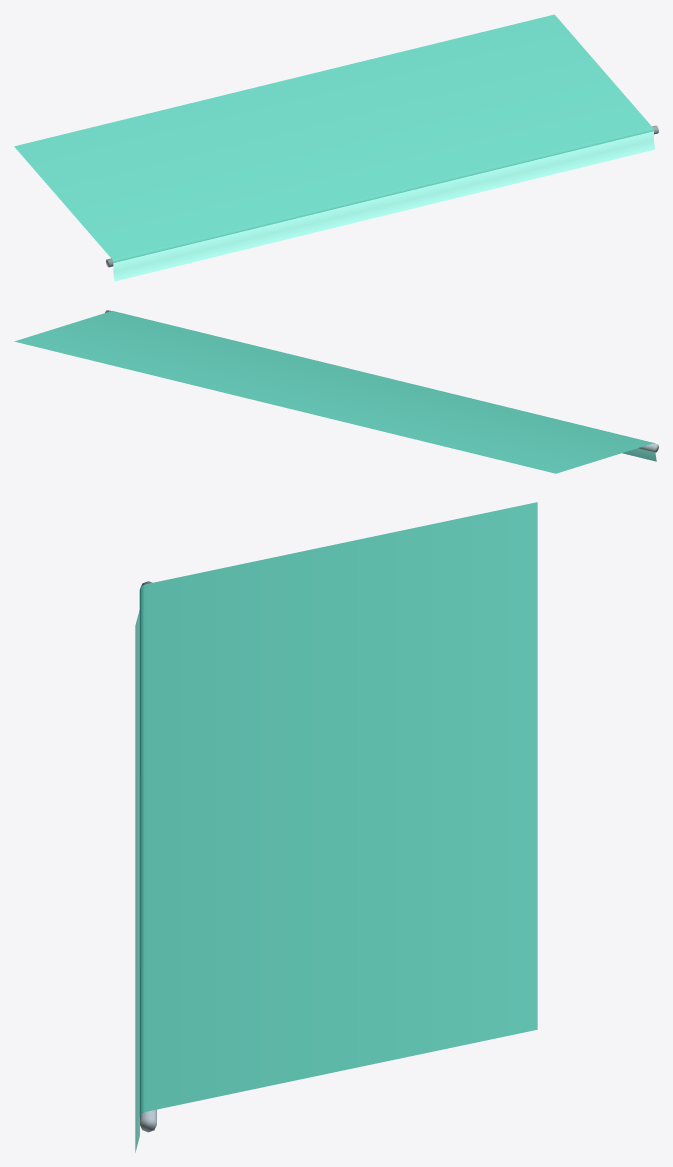
Rendered from markise_long.glb.
3 views of the same model, one above another, from view 1: azimuth 30°, elevation 25°; view 2: azimuth 150°, elevation 25°; view 3: azimuth 270°, elevation 25° (orthographic). The views are drawn at different scales.
Visible parts, largest first — view 1: markise_long; view 2: markise_long; view 3: markise_long.
Part boxes in pixels (box(x1,y1,x2,y2)): markise_long: box(14, 14, 658, 281); markise_long: box(14, 310, 658, 473); markise_long: box(135, 502, 537, 1152).
Bounding box in the file's own units: 5.01 × 0.5375 × 1.59.
